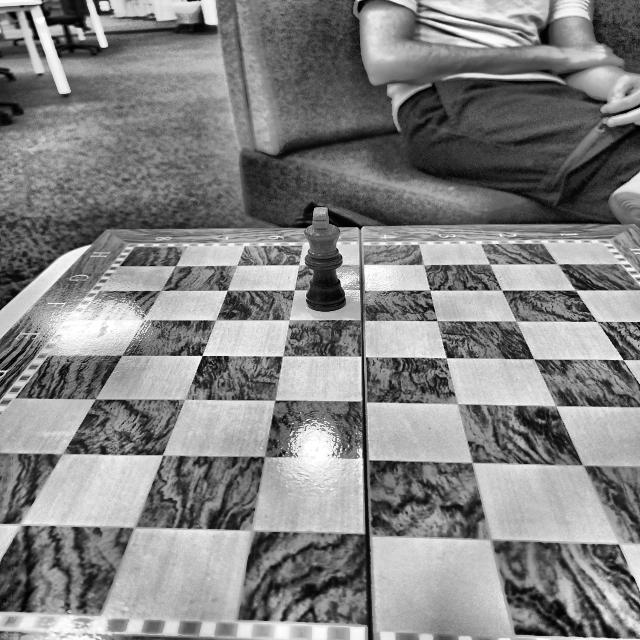black-king: (304, 207, 347, 311)
